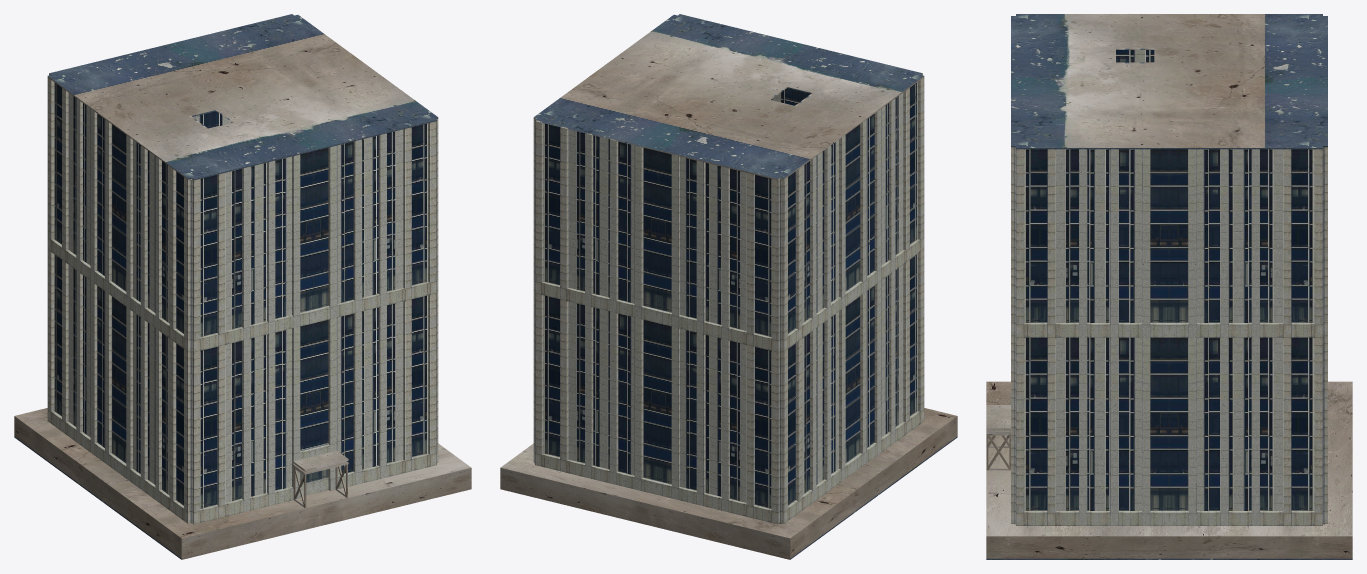
Rendered from BagSS02base_200.fbx.
3 renders of one model, left to right at view 1: azimuth 30°, elevation 25°; view 2: azimuth 150°, elevation 25°; view 3: azimuth 270°, elevation 25°, orthographic. The views are drawn at different scales.
Parts seen in each view (by area): view 1: baseBox200, basePilers200, baseA200, baseBase200; view 2: baseBox200, basePilers200, baseA200, baseBase200; view 3: baseBox200, baseA200, basePilers200, baseBase200.
Boxes of the visible parts, box(x1,y1,x2,y2) form: baseBox200: box(54, 82, 428, 523); basePilers200: box(47, 75, 438, 524); baseA200: box(47, 14, 438, 507); baseBase200: box(14, 408, 471, 559); baseBox200: box(543, 82, 917, 523); basePilers200: box(533, 75, 924, 524); baseA200: box(533, 14, 924, 180); baseBase200: box(500, 408, 957, 559); baseBox200: box(1014, 50, 1323, 524); baseA200: box(986, 14, 1327, 470); basePilers200: box(1011, 147, 1327, 525); baseBase200: box(986, 381, 1352, 559).
Bounding box in the file's own units: 55.78 × 67.44 × 55.78.
